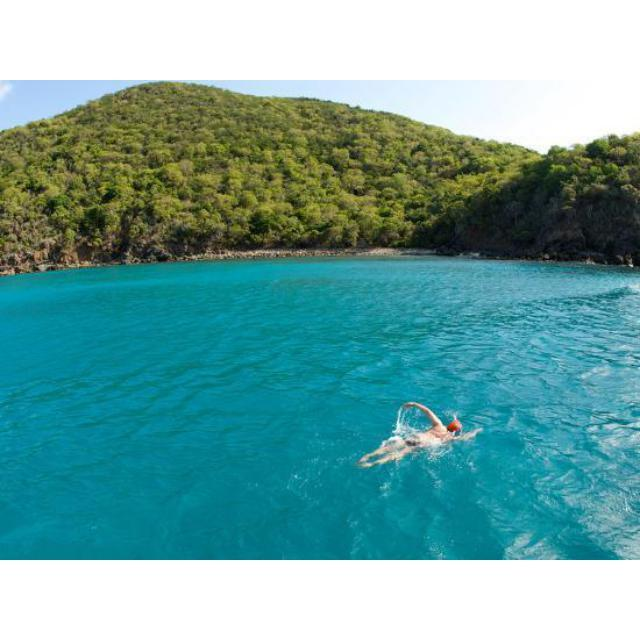human: (360, 396, 484, 470)
